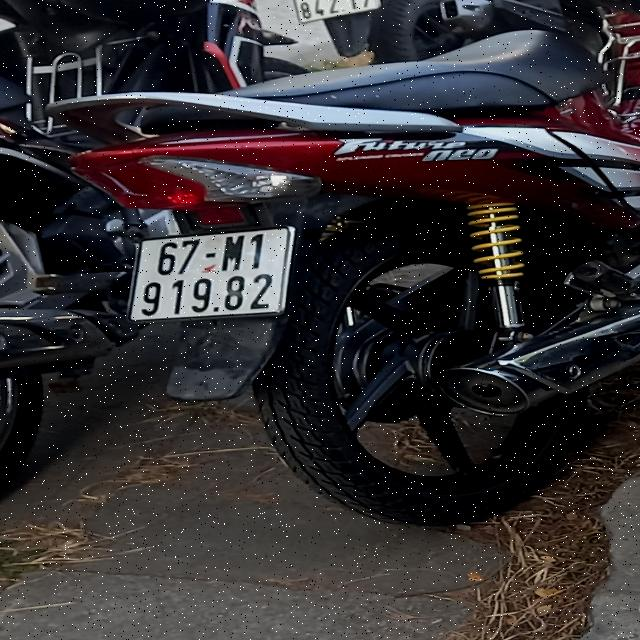1: (248, 234, 269, 269), (168, 278, 188, 314)
2: (248, 272, 272, 309)
6: (156, 241, 179, 275)
7: (178, 236, 202, 278)
8: (224, 274, 246, 313)
9: (138, 281, 160, 317), (192, 278, 211, 314)
M: (221, 232, 245, 272)
